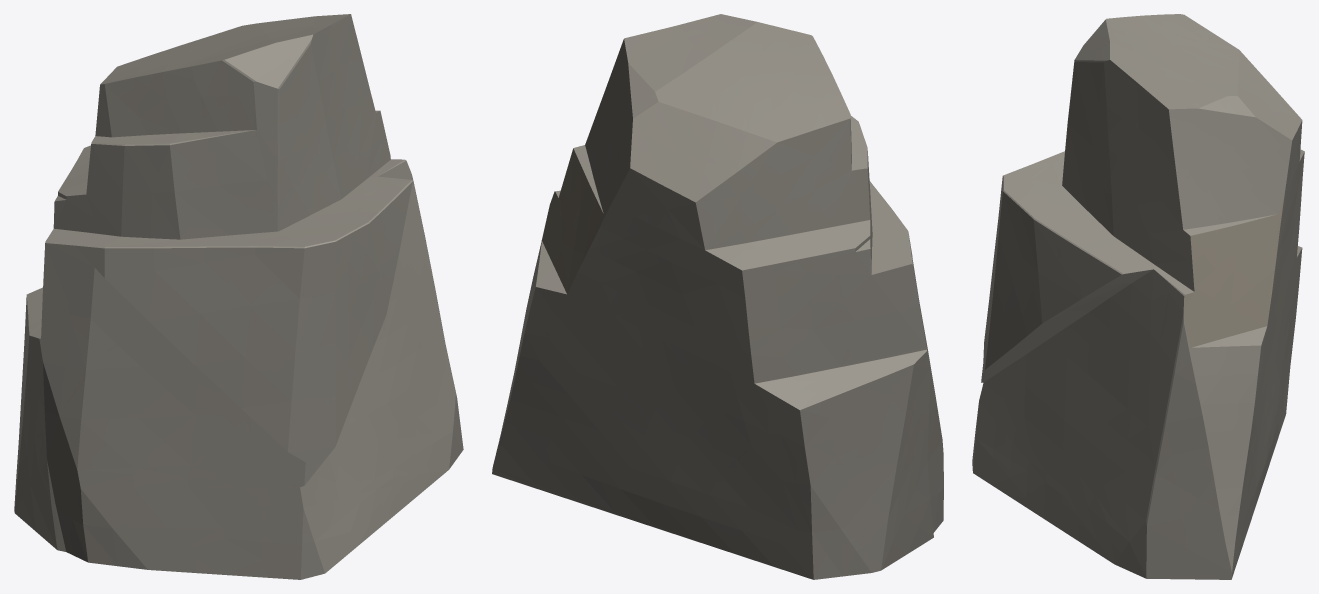
Rendered from cliff_corner_A.glb.
The picture shows the model from 3 angles, left to right: view 1: azimuth 30°, elevation 25°; view 2: azimuth 150°, elevation 25°; view 3: azimuth 270°, elevation 25°; orthographic projection. The views are drawn at different scales.
Visible parts, largest first — view 1: cliff_corner_A; view 2: cliff_corner_A; view 3: cliff_corner_A.
Boxes of the visible parts, x1=… form: cliff_corner_A: x1=14, y1=14, x2=463, y2=579; cliff_corner_A: x1=492, y1=14, x2=943, y2=579; cliff_corner_A: x1=972, y1=14, x2=1304, y2=579.
Bounding box in the file's own units: 6.77 × 7.34 × 5.
